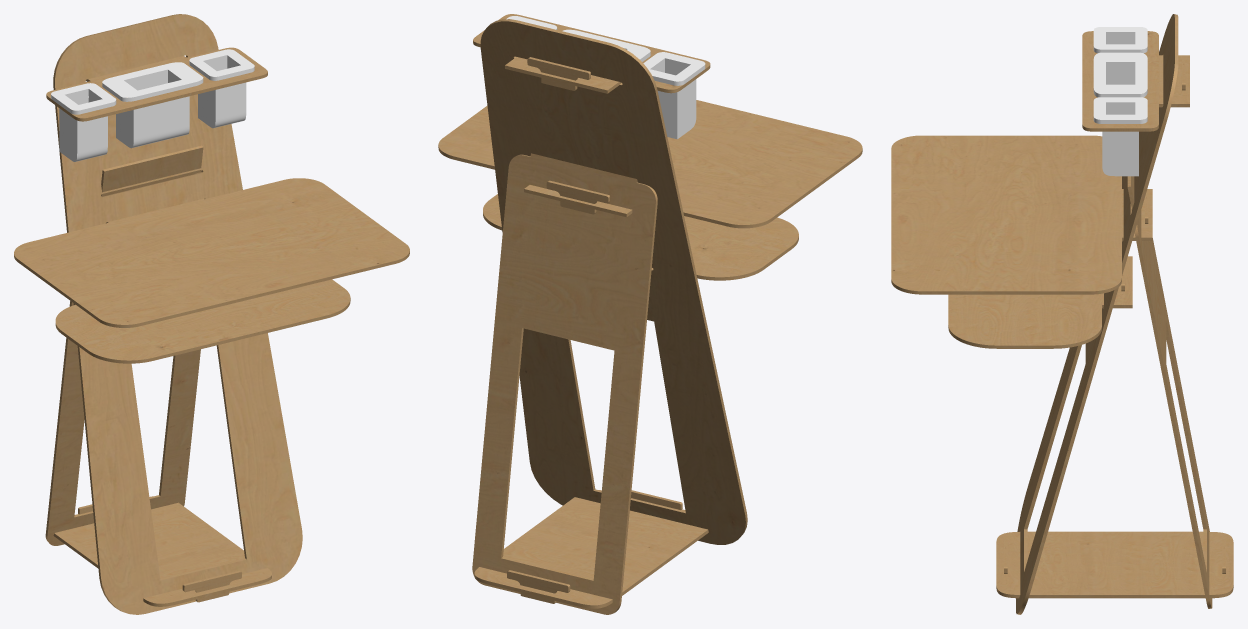
File: Palette.glb
3 renders of one model, left to right at view 1: azimuth 30°, elevation 25°; view 2: azimuth 150°, elevation 25°; view 3: azimuth 270°, elevation 25°, orthographic. The views are drawn at different scales.
Parts seen in each view (by area): view 1: object_3, object_2, object_1; view 2: object_3, object_1, object_2; view 3: object_3, object_1, object_2.
Boxes of the visible parts, x1,y1,x2,y2 form: object_3: (14,14,409,614); object_2: (59,59,246,161); object_1: (51,49,254,114); object_3: (438,14,862,614); object_1: (506,16,705,85); object_2: (655,62,696,139); object_3: (891,14,1233,614); object_1: (1093,27,1147,123); object_2: (1102,36,1138,176).
Size of the model in its own units: 0.6096 by 0.9835 by 0.5658.
Materials: 3 (1 with a texture image).
